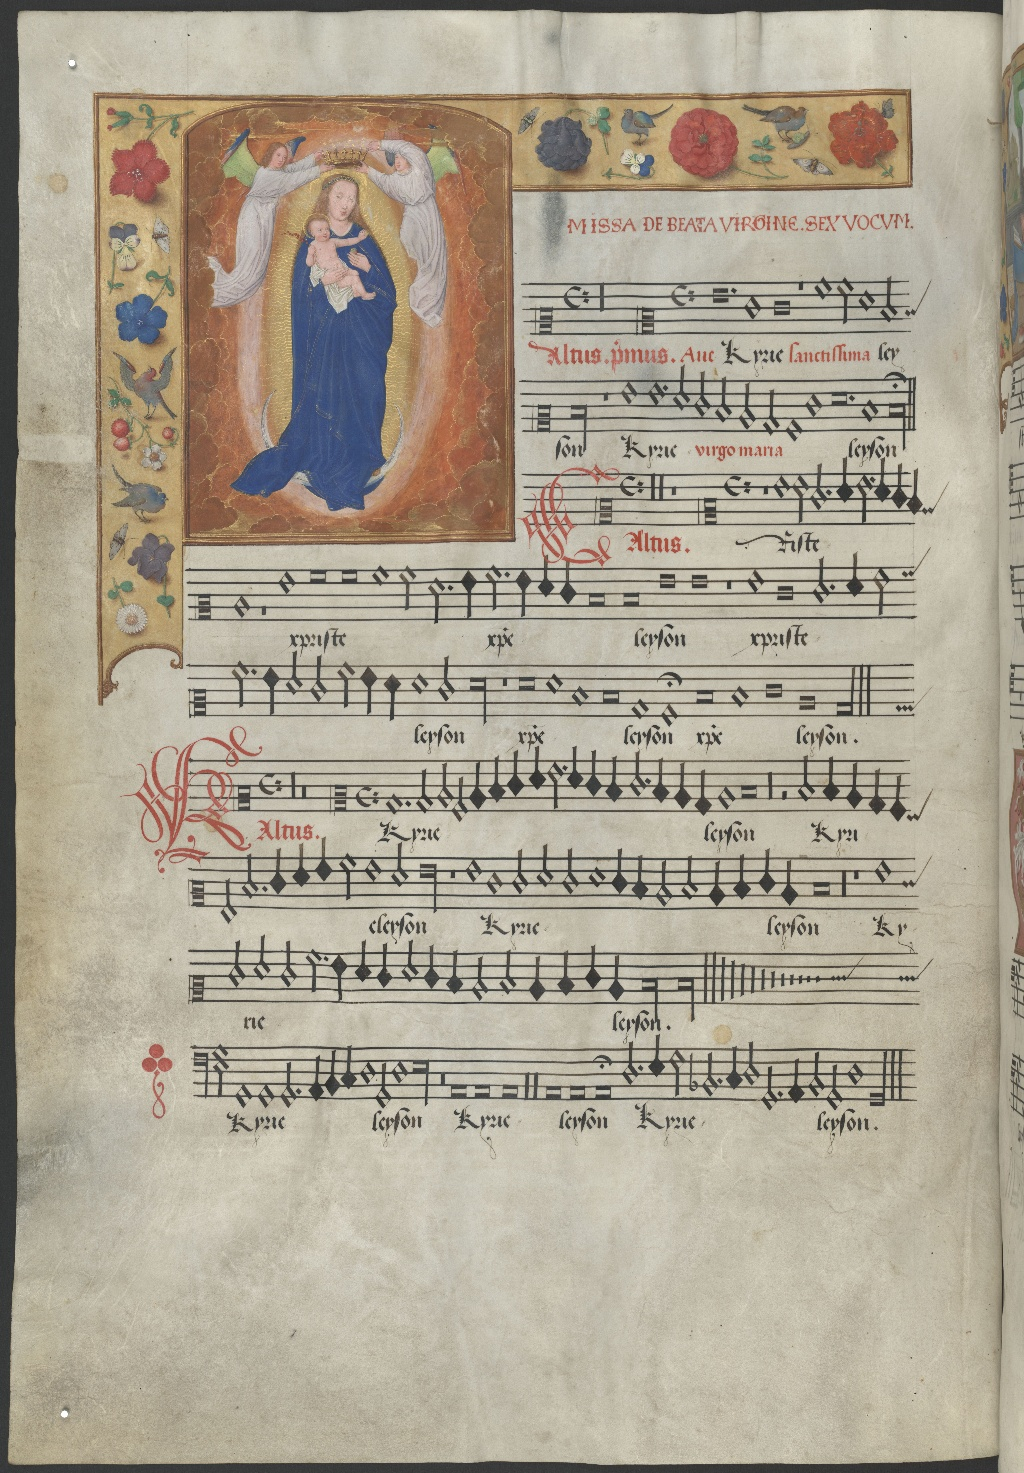barline: (698, 945, 718, 1013)
c clef_9: (185, 960, 210, 1015)
custos_7: (891, 953, 930, 988), (825, 953, 859, 986)
longa_8: (635, 967, 663, 1023), (671, 965, 697, 1022)
minim_4: (303, 942, 322, 1000)
minim_6: (252, 929, 272, 988), (400, 933, 419, 992)
minim_7: (225, 933, 247, 996), (278, 933, 299, 996)
minim_8: (497, 942, 519, 1004)
minim_9: (469, 946, 490, 1008)
point: (314, 948, 330, 969)
semiminim_5: (329, 946, 348, 1008)
semiminim_6: (353, 935, 373, 991)
semiminim_7: (583, 936, 603, 1000), (422, 937, 441, 997), (375, 935, 393, 997)
semiminim_8: (554, 942, 575, 1006), (444, 942, 464, 1003)
semiminim_9: (526, 947, 548, 1011), (607, 946, 626, 1008)
